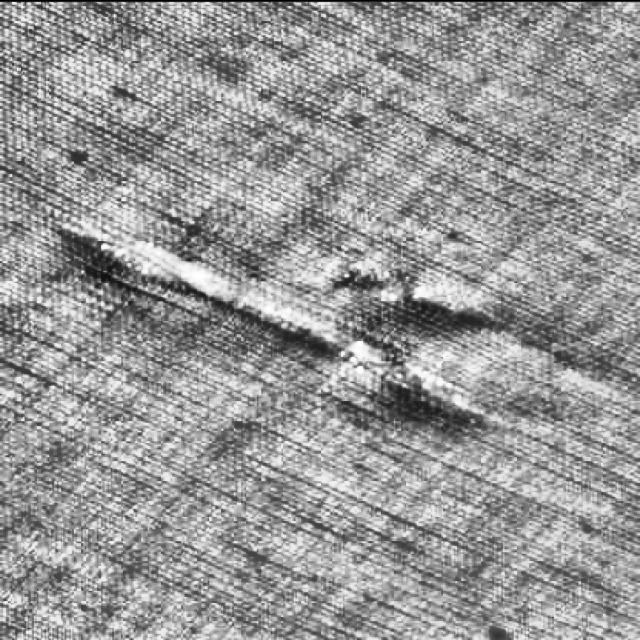thread_error: (47, 196, 486, 436), (308, 242, 544, 338)
